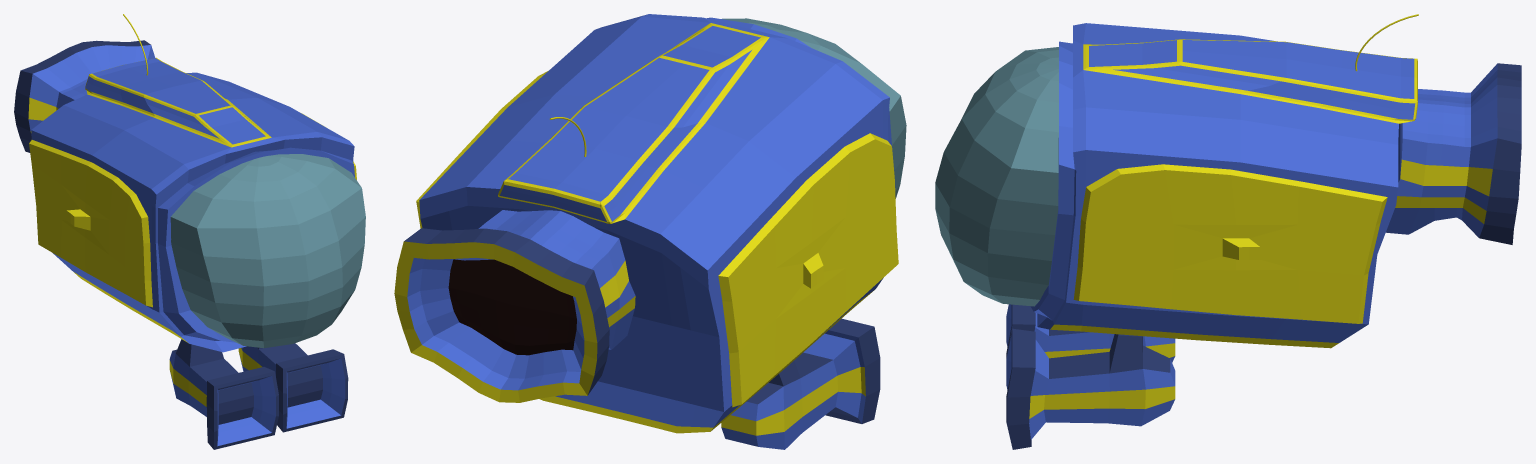
File: nave_01_v05_unity.fbx
3 views of the same model, side by side, from view 1: azimuth 30°, elevation 25°; view 2: azimuth 150°, elevation 25°; view 3: azimuth 270°, elevation 25° (orthographic). The views are drawn at different scales.
Visible parts, largest first — view 1: base nave, Esfera UV, Plano, Cubo.001, Cubo, fogete; view 2: base nave, fogete, Plano, Cubo.001, Esfera UV; view 3: base nave, Plano, Esfera UV, fogete, Cubo, Cubo.001.
Part boxes in pixels (box(x1,y1,x2,y2)): base nave: box(31, 57, 354, 352); Esfera UV: box(170, 154, 365, 348); Plano: box(29, 113, 356, 307); Cubo.001: box(169, 339, 278, 449); Cubo: box(238, 343, 348, 432); fogete: box(14, 40, 155, 152); base nave: box(419, 14, 892, 433); fogete: box(394, 210, 635, 402); Plano: box(416, 71, 898, 407); Cubo.001: box(721, 318, 880, 449); Esfera UV: box(722, 18, 906, 198); base nave: box(1030, 23, 1417, 348); Plano: box(1073, 164, 1387, 323); Esfera UV: box(935, 47, 1058, 306); fogete: box(1386, 63, 1521, 244); Cubo: box(1006, 328, 1175, 449); Cubo.001: box(1006, 304, 1175, 362).
Bounding box in the file's own units: 413 × 514 × 690.
